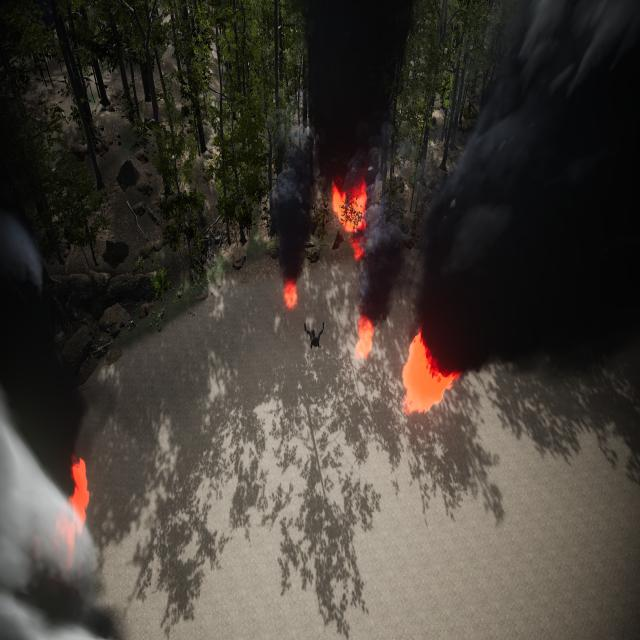Human: (299, 316, 326, 360)
